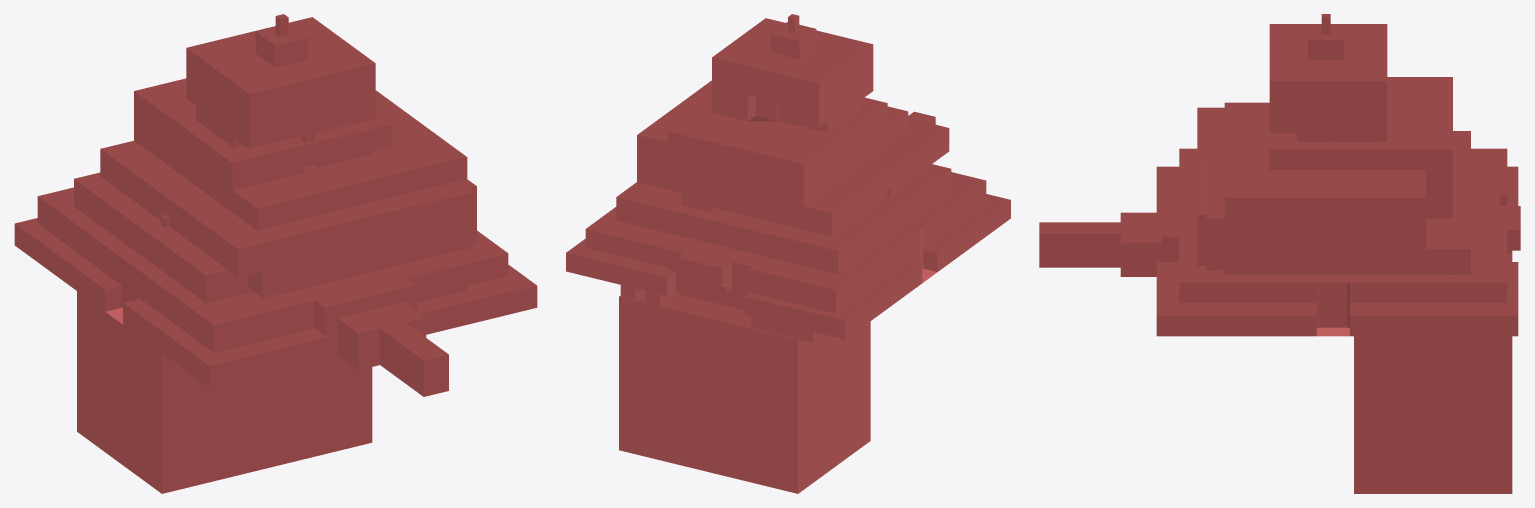
Rendered from desert_py.glb.
3 views of the same model, side by side, from view 1: azimuth 30°, elevation 25°; view 2: azimuth 150°, elevation 25°; view 3: azimuth 270°, elevation 25° (orthographic). The views are drawn at different scales.
Parts seen in each view (by area): view 1: desert_py_col; view 2: desert_py_col; view 3: desert_py_col.
Boxes of the visible parts, x1,y1,x2,y2 form: desert_py_col: (14,14,537,493); desert_py_col: (566,14,1010,493); desert_py_col: (1039,14,1520,493).
Bounding box in the file's own units: 7.8 × 10.5 × 10.65.
